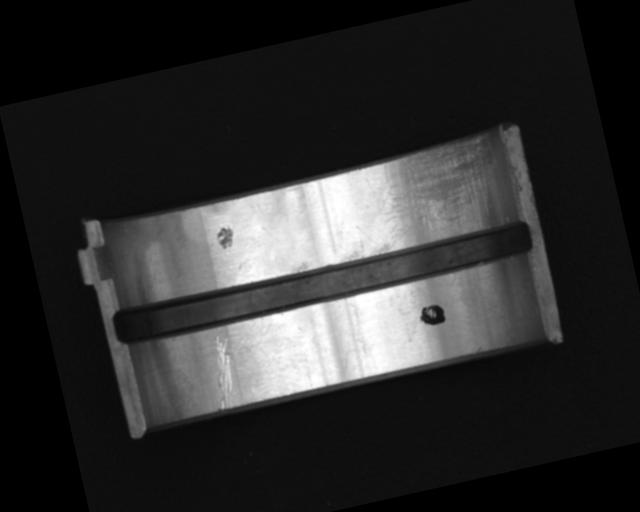blot: (415, 301, 448, 329)
bruise: (212, 223, 239, 253)
gap: (108, 215, 538, 350)
nick: (203, 333, 245, 414)
scratch: (354, 128, 515, 257)
